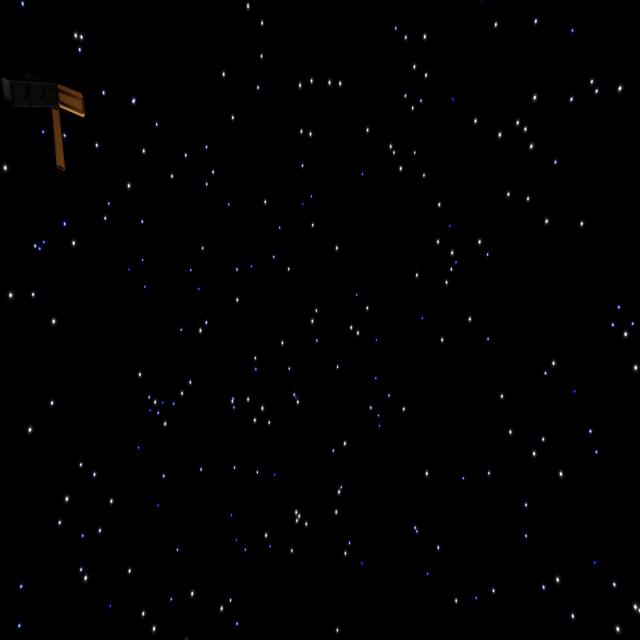satellite: (0, 74, 95, 169)
